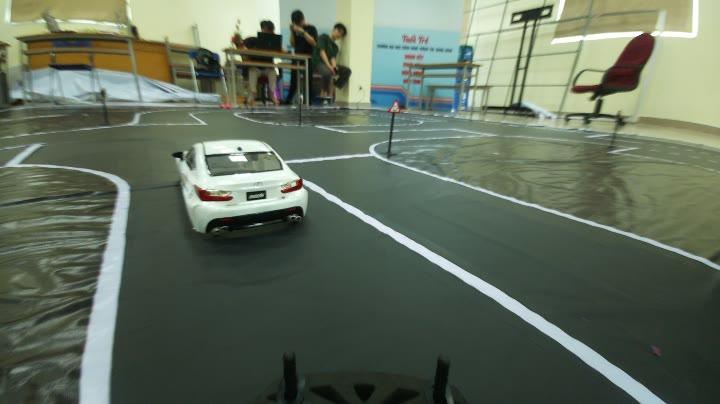car: (162, 140, 318, 241)
